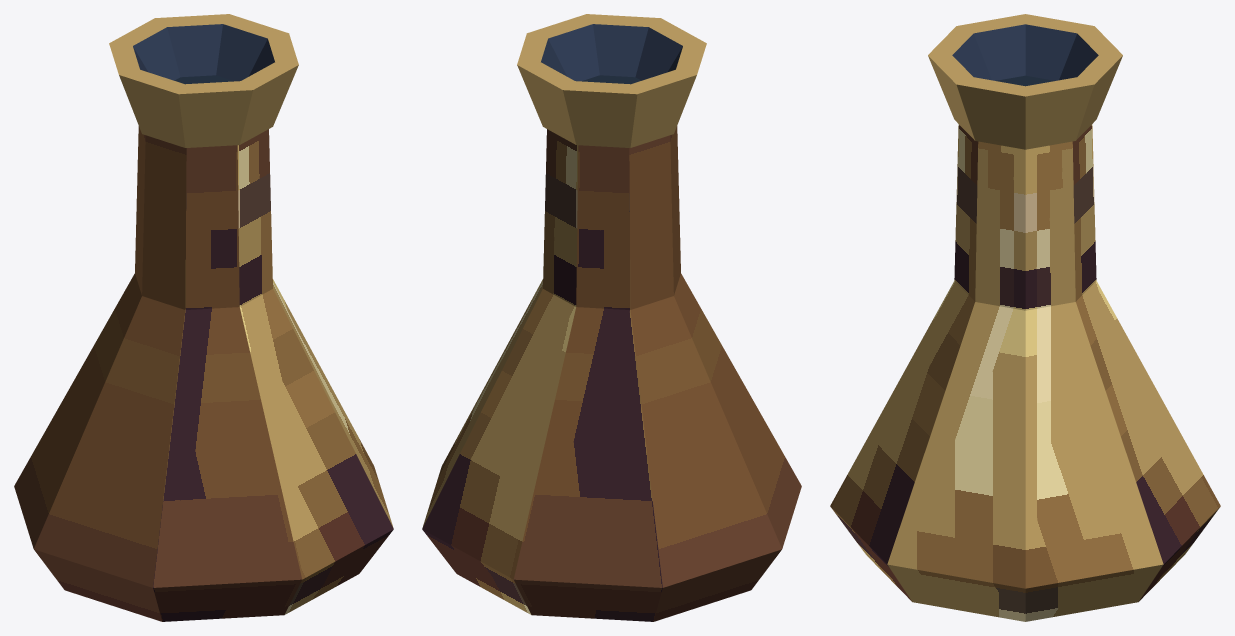
Rendered from lidded_urn.glb.
3 renders of one model, left to right at view 1: azimuth 30°, elevation 25°; view 2: azimuth 150°, elevation 25°; view 3: azimuth 270°, elevation 25°, orthographic.
Parts seen in each view (by area): view 1: lidded_urn; view 2: lidded_urn; view 3: lidded_urn.
Boxes of the visible parts, bbox=[...] form: lidded_urn: bbox=[14, 14, 393, 621]; lidded_urn: bbox=[422, 14, 801, 621]; lidded_urn: bbox=[830, 14, 1220, 621].
Bounding box in the file's own units: 0.7097 × 1 × 0.7097.
1 material, 1 textured.
